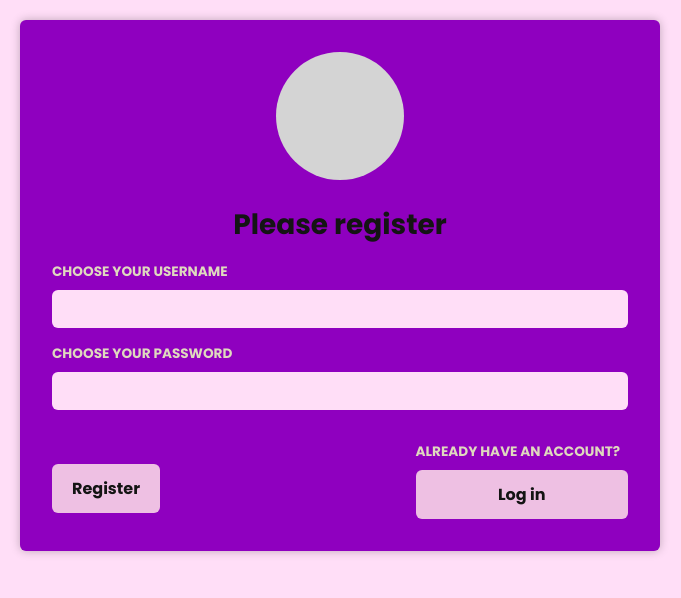
Test: Register Component › displays error message when registration fails
The width and height of the screenshot is (681, 598).
Click the button "Register".
click(106, 488)  # box [52,464,160,513]
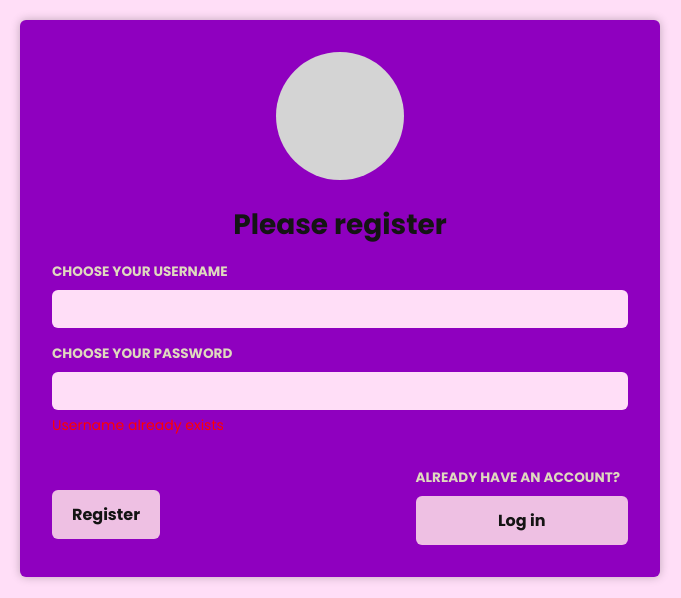
Expected: the text "Username already exists" is shown, [52,415,224,435]
